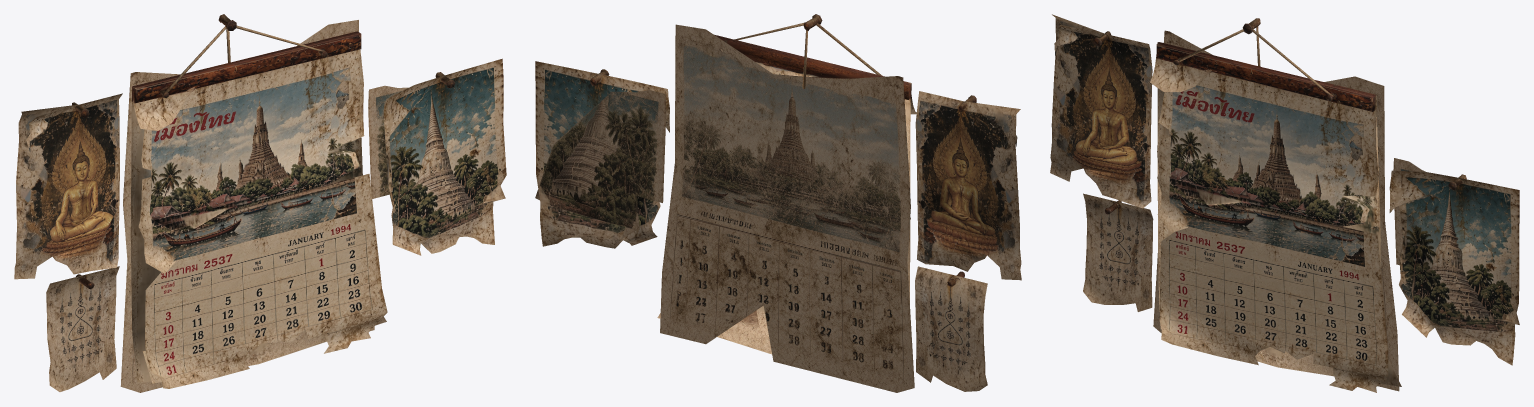
The model's file is Meshy_AI_Faded_Thai_Memories_20261028_texture.fbx.
3 views of the same model, side by side, from view 1: azimuth 30°, elevation 25°; view 2: azimuth 150°, elevation 25°; view 3: azimuth 330°, elevation 25° (orthographic). The views are drawn at different scales.
Parts seen in each view (by area): view 1: Mesh_0; view 2: Mesh_0; view 3: Mesh_0.
Boxes of the visible parts, x1=… form: Mesh_0: x1=14, y1=14, x2=506, y2=392; Mesh_0: x1=535, y1=14, x2=1021, y2=392; Mesh_0: x1=1050, y1=14, x2=1519, y2=392.
Bounding box in the file's own units: 95.75 × 66.31 × 7.08.
1 material, 1 textured.
